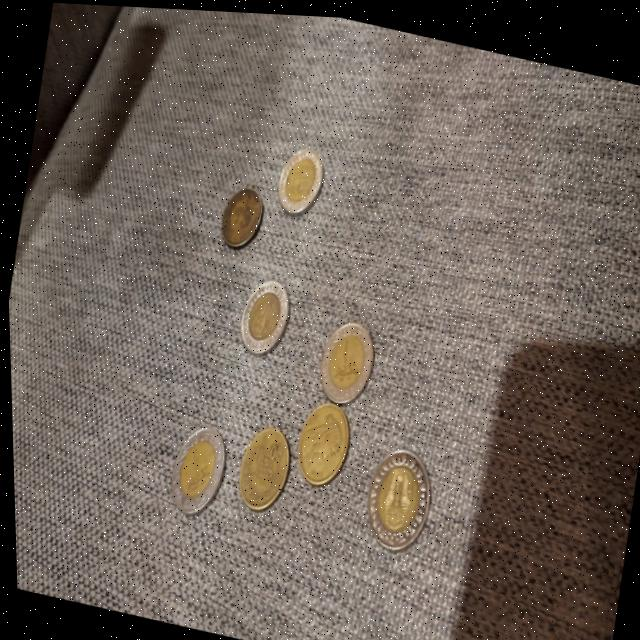Half Pound: (225, 413, 293, 517), (287, 391, 351, 491), (211, 175, 267, 252)
One Pound: (353, 433, 436, 551), (157, 414, 230, 522), (306, 308, 379, 405), (229, 267, 292, 361), (267, 135, 329, 220)
